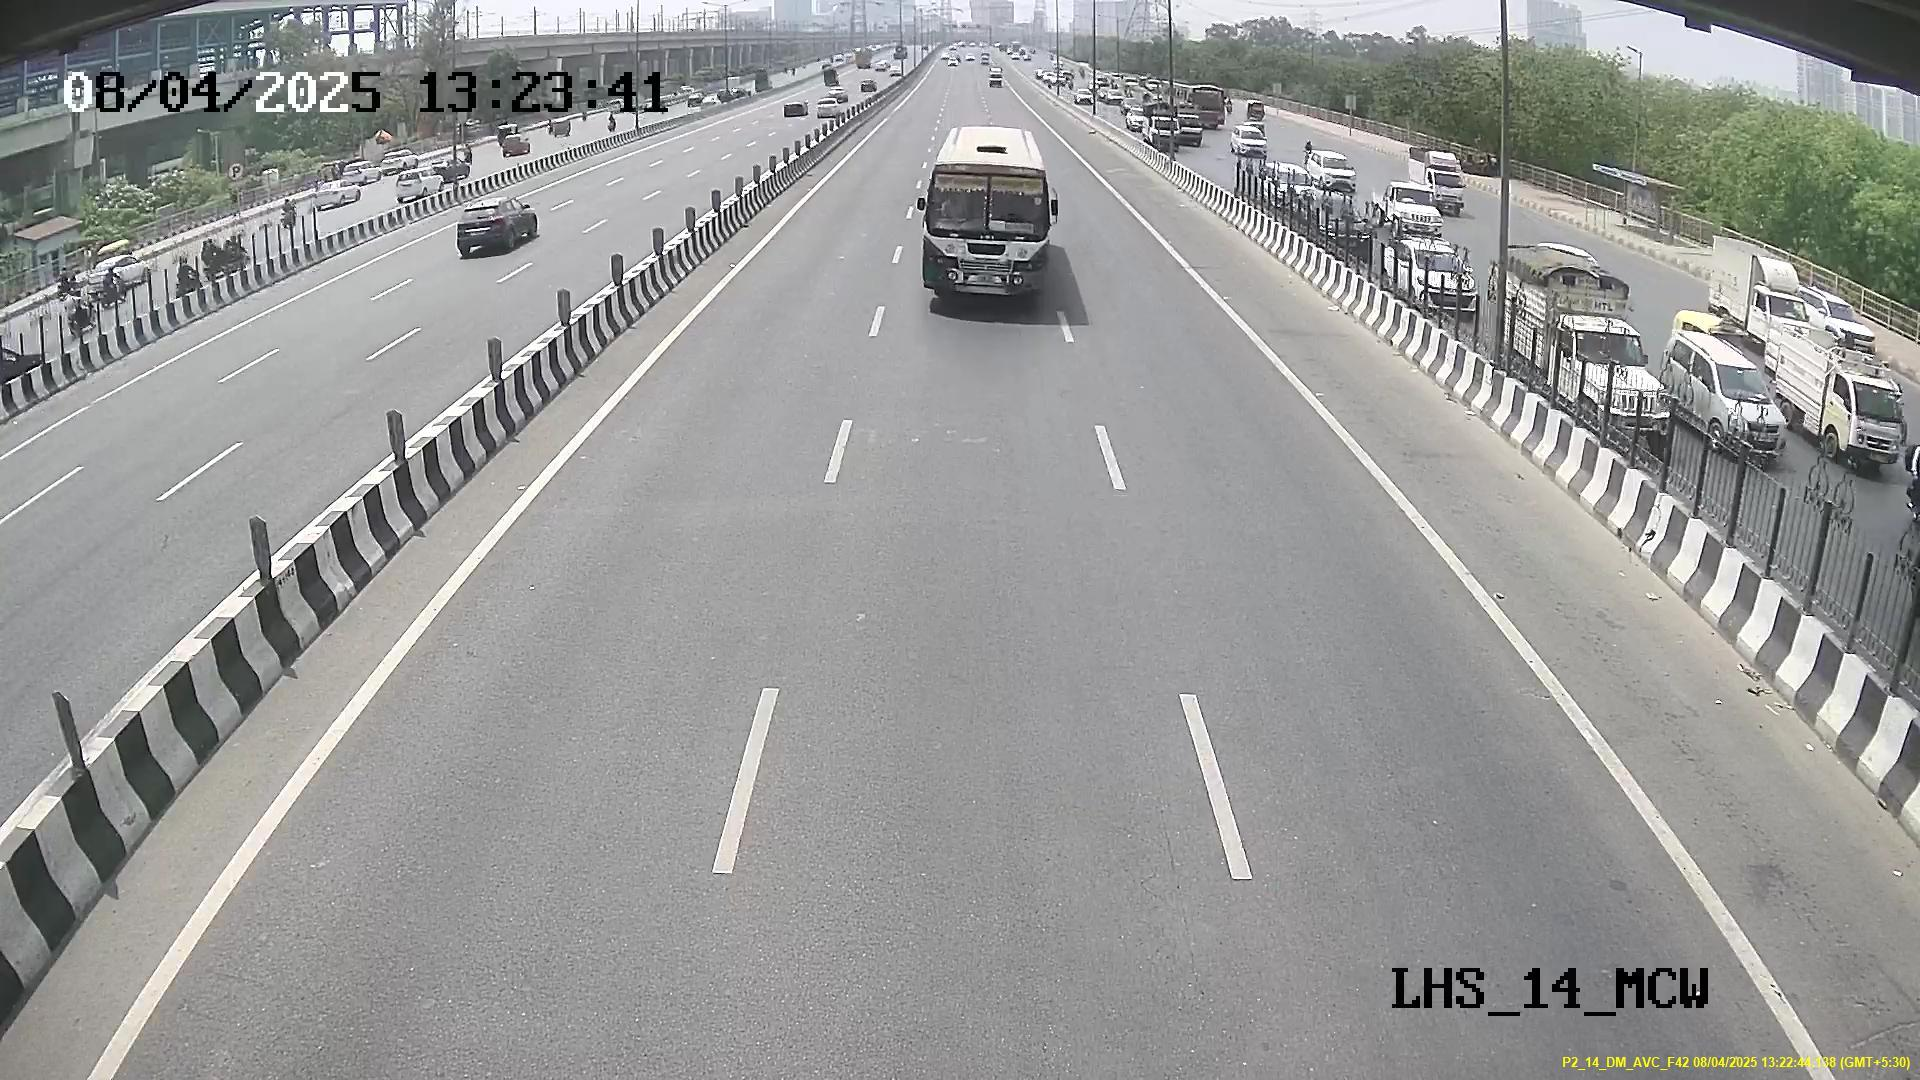bus: (917, 147, 1059, 307)
